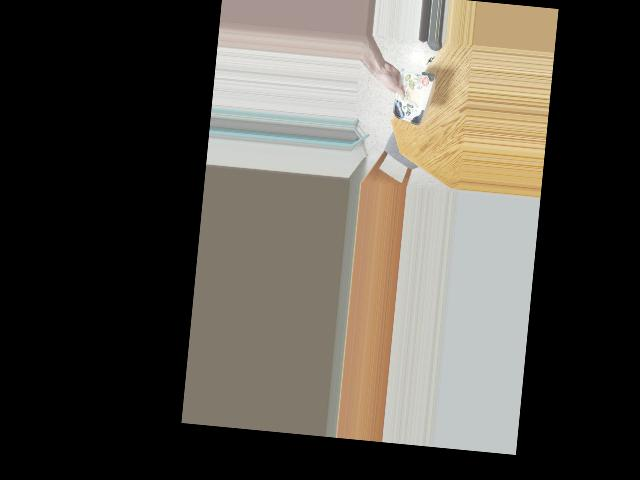cheese: (390, 68, 435, 125)
